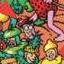waldo: (18, 18, 33, 38)
